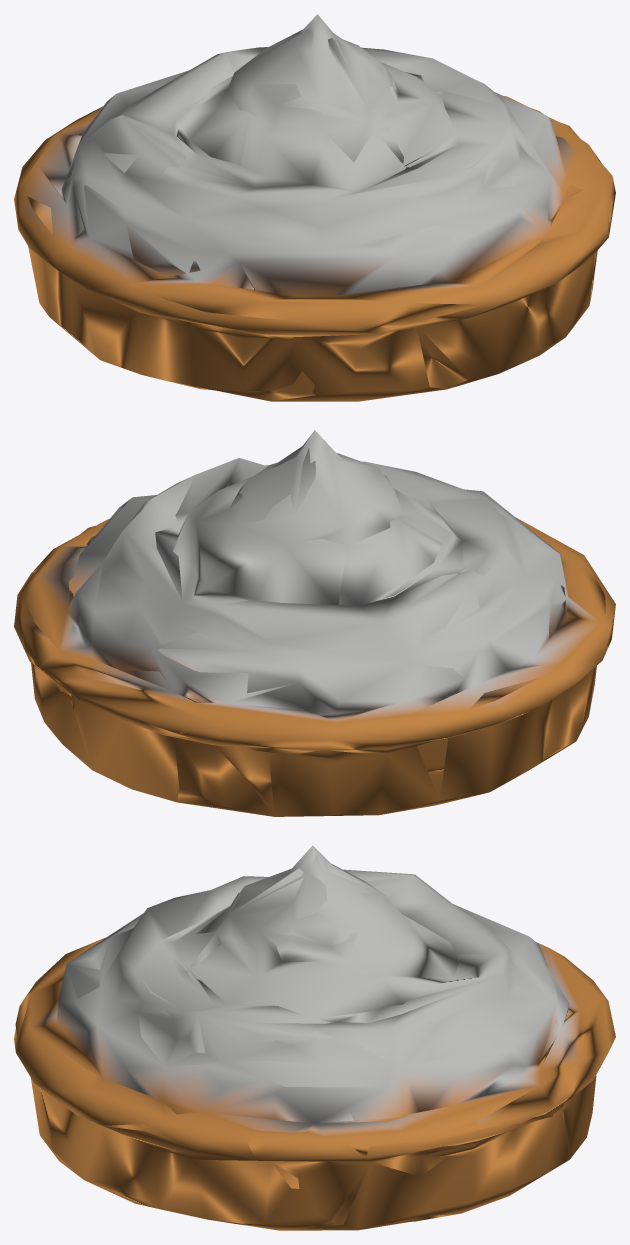
Rendered from gen3d-cream-pie-lod1.glb.
3 renders of one model, top to bottom at view 1: azimuth 30°, elevation 25°; view 2: azimuth 150°, elevation 25°; view 3: azimuth 270°, elevation 25°, orthographic.
Visible parts, largest first — view 1: part_0; view 2: part_0; view 3: part_0.
Boxes of the visible parts, x1,y1,x2,y2 form: part_0: (14, 14, 615, 401); part_0: (14, 430, 615, 816); part_0: (14, 845, 615, 1230).
Bounding box in the file's own units: 1.95 × 0.9861 × 1.96.
